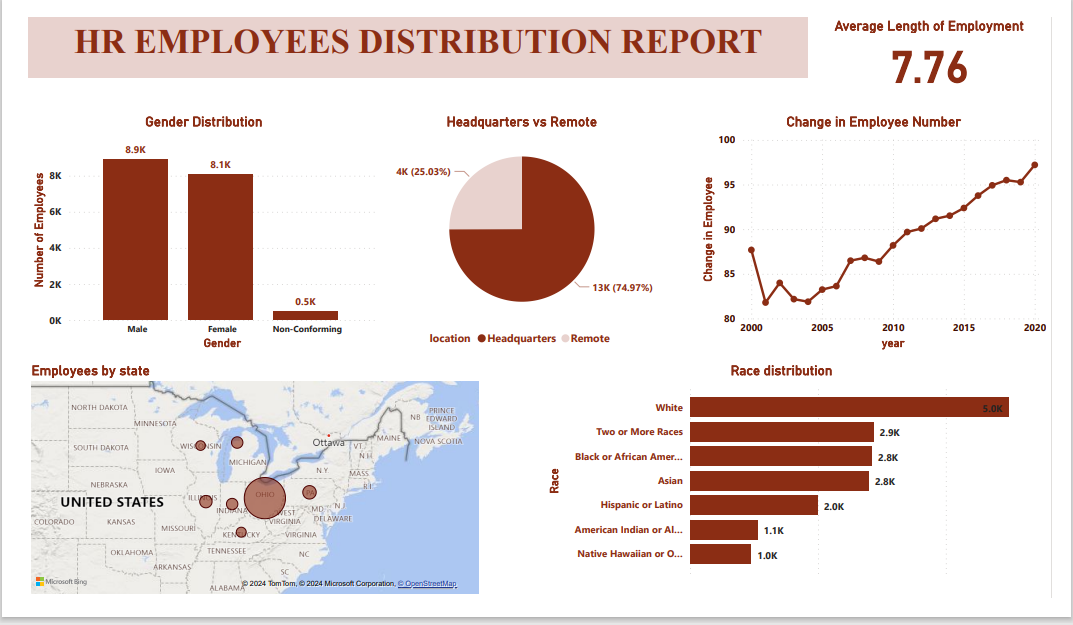

This screenshot's page, from the dashboard's own definition file:
{"tool":"powerbi","page":{"name":"Page 1","canvas":[1280,720],"ordinal":0},"visuals":[{"type":"textbox","box":[9.5,0,969.8,74.6],"z":0},{"type":"card","title":"Average Length of Employment","fields":{"Values":["Sum(avg_len_employment.avg_len_employment)"]},"box":[979.4,0,300,90.5],"z":1000},{"type":"clusteredColumnChart","title":"Gender Distribution","fields":{"Category":["gender.gender"],"Y":["Sum(gender.gender_count)"]},"box":[9.5,118.6,436.5,298.4],"z":2000},{"type":"pieChart","title":"Headquarters vs Remote","fields":{"Y":["Sum(location.count)"],"Category":["location.location"]},"box":[420.6,118.6,404.8,298.4],"z":3000},{"type":"lineChart","title":"Change in Employee Number","fields":{"Category":["employee_change.year"],"Y":["Sum(employee_change.ROUND((hires - term)/hires * 100,2))"]},"box":[841.3,118.6,438.1,298.4],"z":4000},{"type":"map","title":"Employees by state","fields":{"Size":["Sum(location_state.count)"],"Category":["location_state.location_state"]},"box":[9.3,427.8,564.8,292.6],"z":5000},{"type":"barChart","title":"Race distribution","fields":{"Y":["Sum(race.count)"],"Category":["race.race"]},"box":[650,427.8,590.7,292.6],"z":6000}]}

Visuals, with their boxes on the page's 1280x720 design canvas (x1, y1, x2, y2). These are canvas units, not pixel positions in the 1073x625 screenshot, which may show the page scaled, cropped or inside an application window:
textbox: x1=10, y1=0, x2=979, y2=75
"Average Length of Employment" card: x1=979, y1=0, x2=1279, y2=90
"Gender Distribution" clusteredColumnChart: x1=10, y1=119, x2=446, y2=417
"Headquarters vs Remote" pieChart: x1=421, y1=119, x2=825, y2=417
"Change in Employee Number" lineChart: x1=841, y1=119, x2=1279, y2=417
"Employees by state" map: x1=9, y1=428, x2=574, y2=720
"Race distribution" barChart: x1=650, y1=428, x2=1241, y2=720
